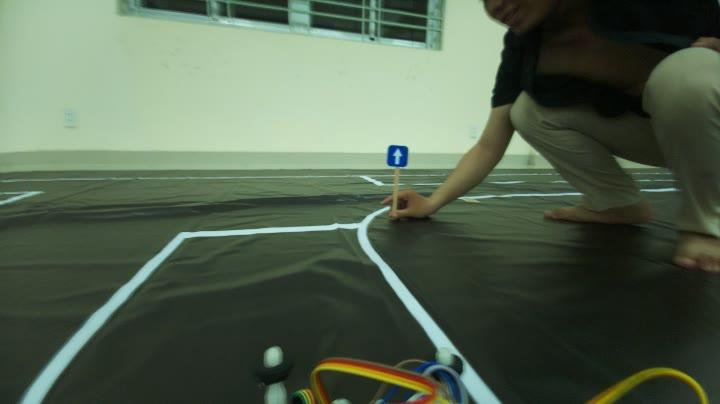onewayroad: (384, 143, 413, 169)
